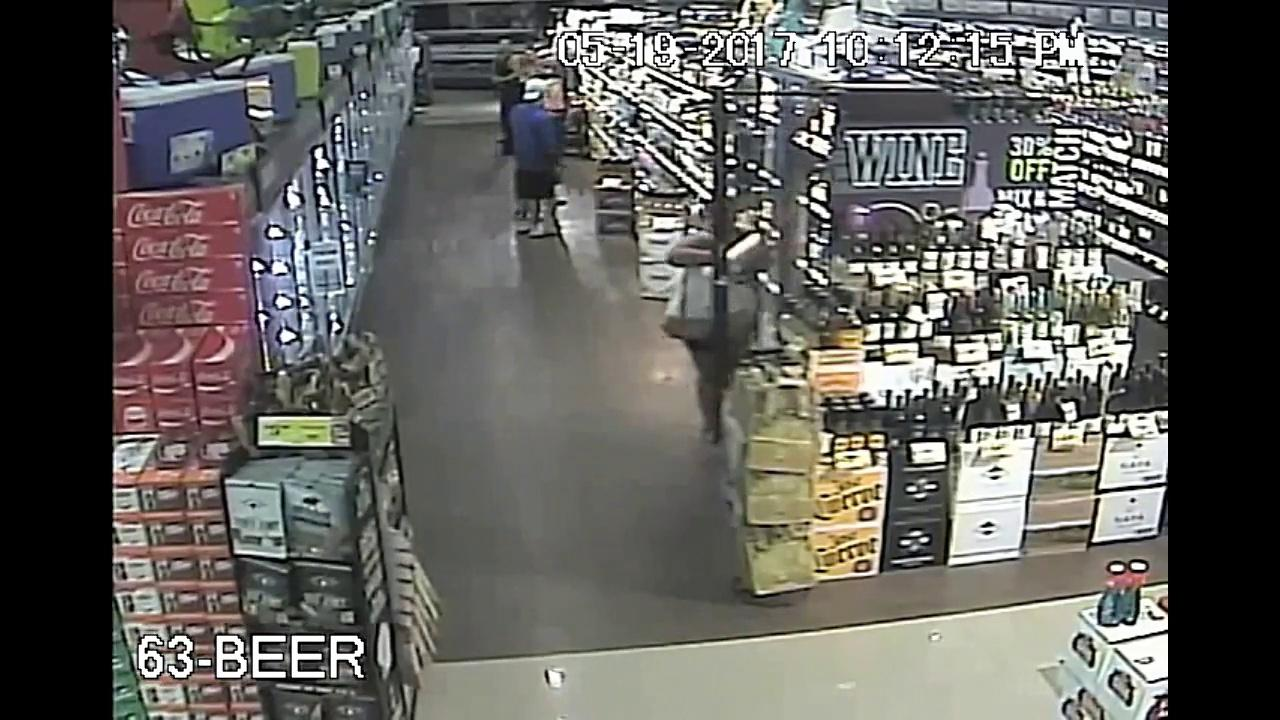1: (723, 224, 782, 279)
3: (463, 35, 580, 259)
4: (638, 153, 840, 458)
persone: (659, 249, 763, 336)
